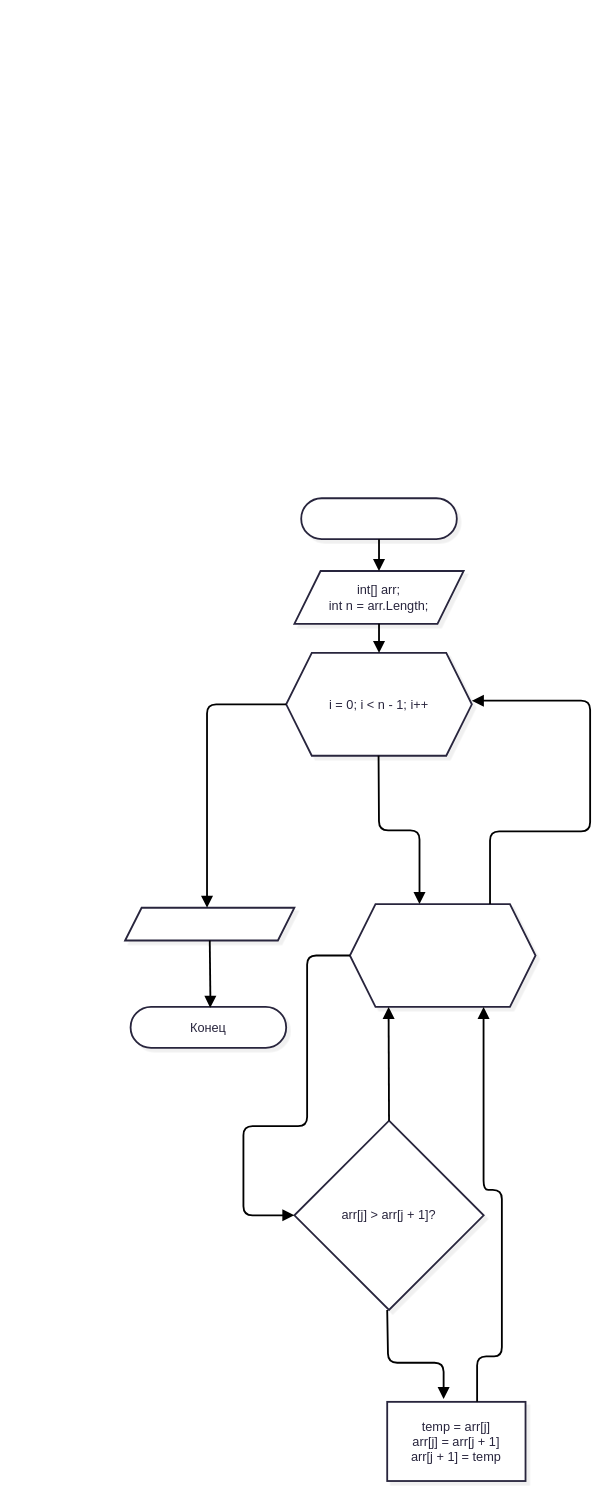
The diagram is 615 pixels wide and 1501 high, and some of its shapes have lost their labels. Each missing label, with the centre of its shape:
"j = 0; j < n - i - 1; j++" belongs at (444,957).
"Вывод массива arr" belongs at (211,925).
"Начало" belongs at (380,520).
